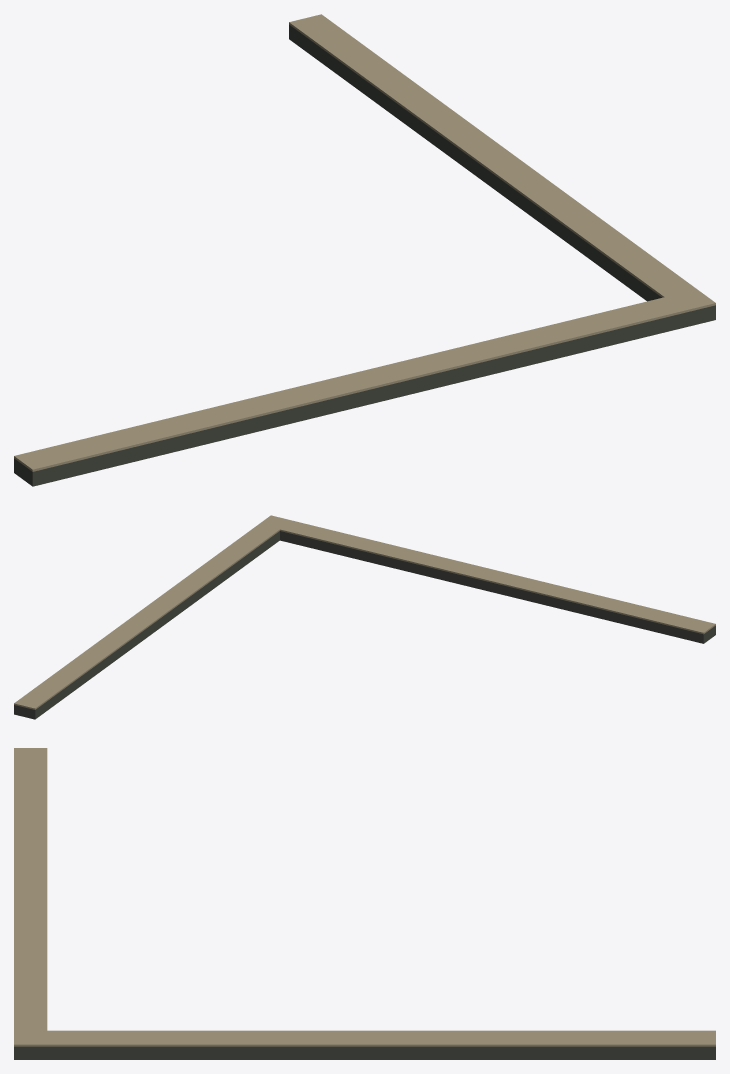
File: mall-floor-mitred-trim.glb
3 views of the same model, one above another, from view 1: azimuth 30°, elevation 25°; view 2: azimuth 150°, elevation 25°; view 3: azimuth 270°, elevation 25° (orthographic). The views are drawn at different scales.
Parts seen in each view (by area): view 1: Front cap, Right cap, Front support, Right support; view 2: Front cap, Right cap, Front support, Right support; view 3: Right cap, Front cap, Right support.
Part boxes in pixels (left/top/right/bottom): Front cap: left=14, top=297, right=715, bottom=471; Right cap: left=289, top=14, right=715, bottom=302; Front support: left=14, top=305, right=715, bottom=486; Right support: left=289, top=24, right=661, bottom=301; Front cap: left=271, top=515, right=715, bottom=634; Right cap: left=14, top=515, right=279, bottom=709; Front support: left=280, top=531, right=715, bottom=643; Right support: left=14, top=531, right=279, bottom=719; Right cap: left=14, top=1030, right=715, bottom=1046; Front cap: left=14, top=748, right=47, bottom=1044; Right support: left=14, top=1046, right=715, bottom=1059.
Size of the model in its own units: 1.26 by 0.03 by 1.26.
